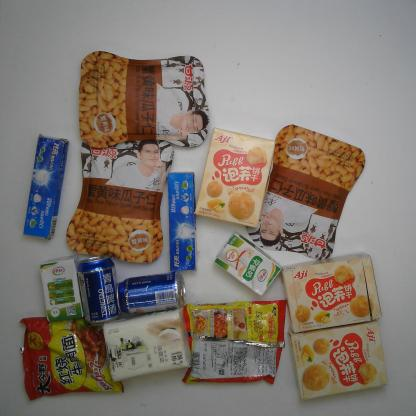Alcohol: (111, 269, 190, 319), (74, 254, 124, 326)
Dessert: (275, 250, 384, 337), (282, 319, 392, 403), (194, 126, 278, 230)
Dried Fruit: (242, 123, 364, 262), (66, 130, 180, 267), (74, 45, 218, 153)
Instant Noodles: (180, 291, 288, 389), (18, 315, 127, 403)
Milk: (213, 233, 284, 299), (35, 254, 89, 326)
Personal Hygiene: (19, 131, 73, 241), (163, 169, 200, 275)
Tissue: (98, 307, 198, 384)
